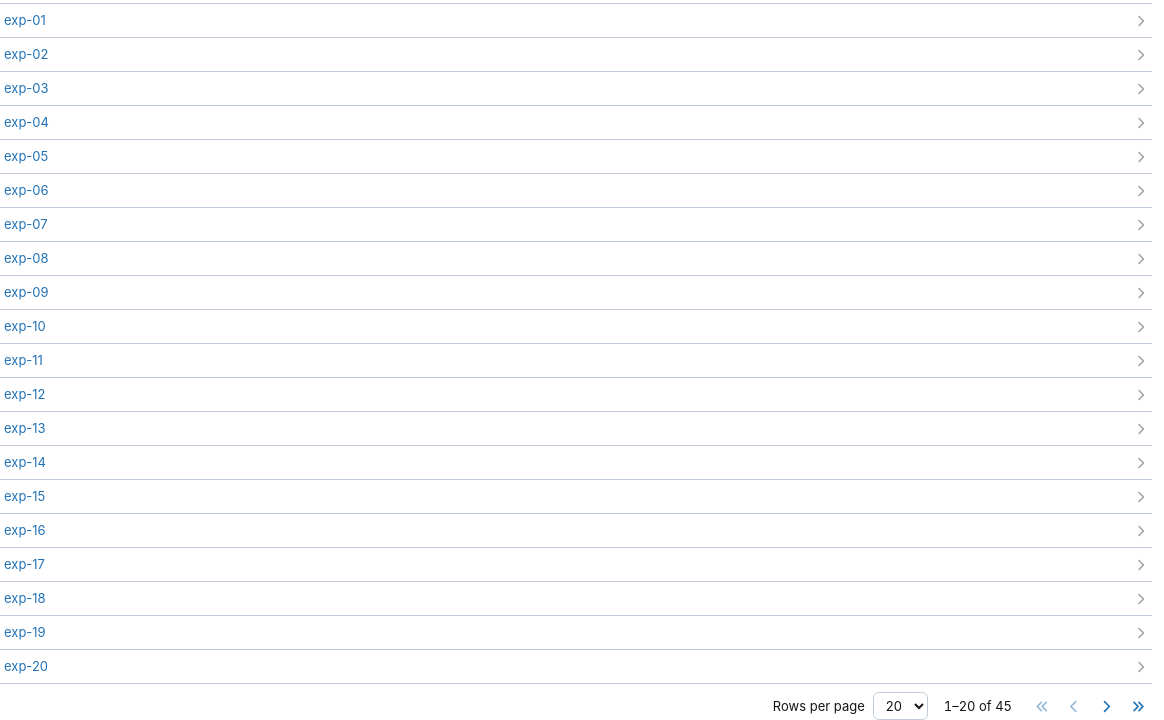
ExperimentsPage server-side pagination › requests the next offset when the page changes
(page scrolled)
Expected: the link "exp-01" is shown, x1=4 y1=12 x2=46 y2=28
Click the button named "Next page": (1106, 706) x1=1092 y1=692 x2=1120 y2=719
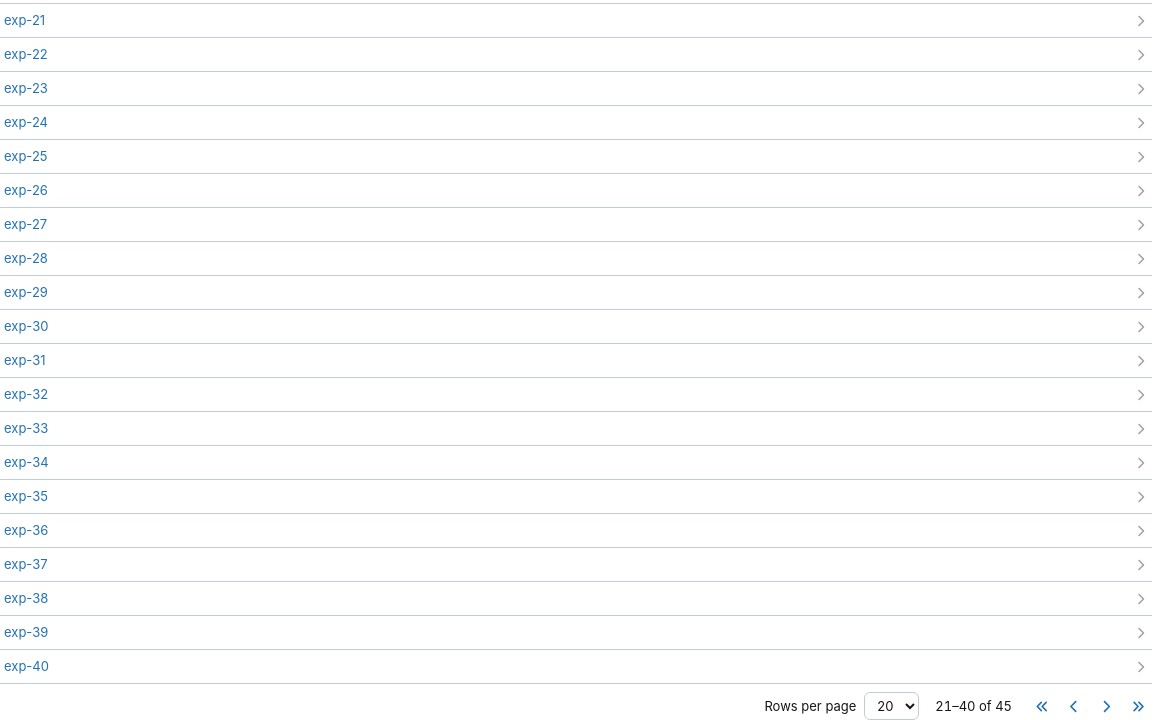
Result: the link "exp-21" is shown at x1=4 y1=12 x2=45 y2=28
Result: the text with test id "pagination-range" reads "21–40 of 45" at x1=935 y1=698 x2=1012 y2=714
